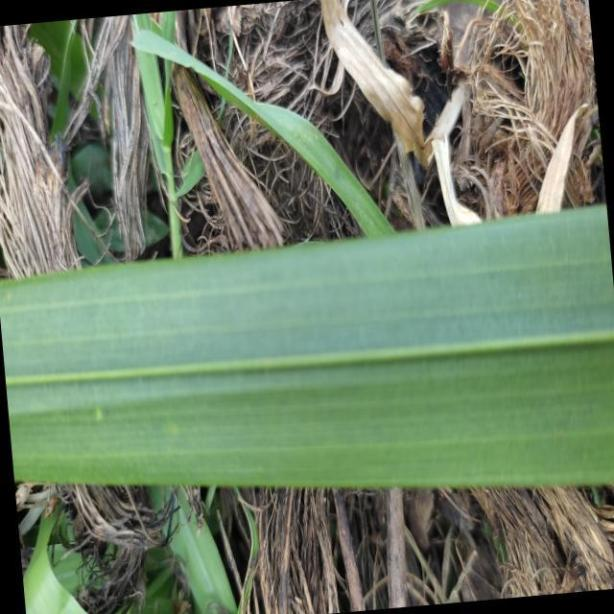Healthy: (0, 205, 614, 486)
